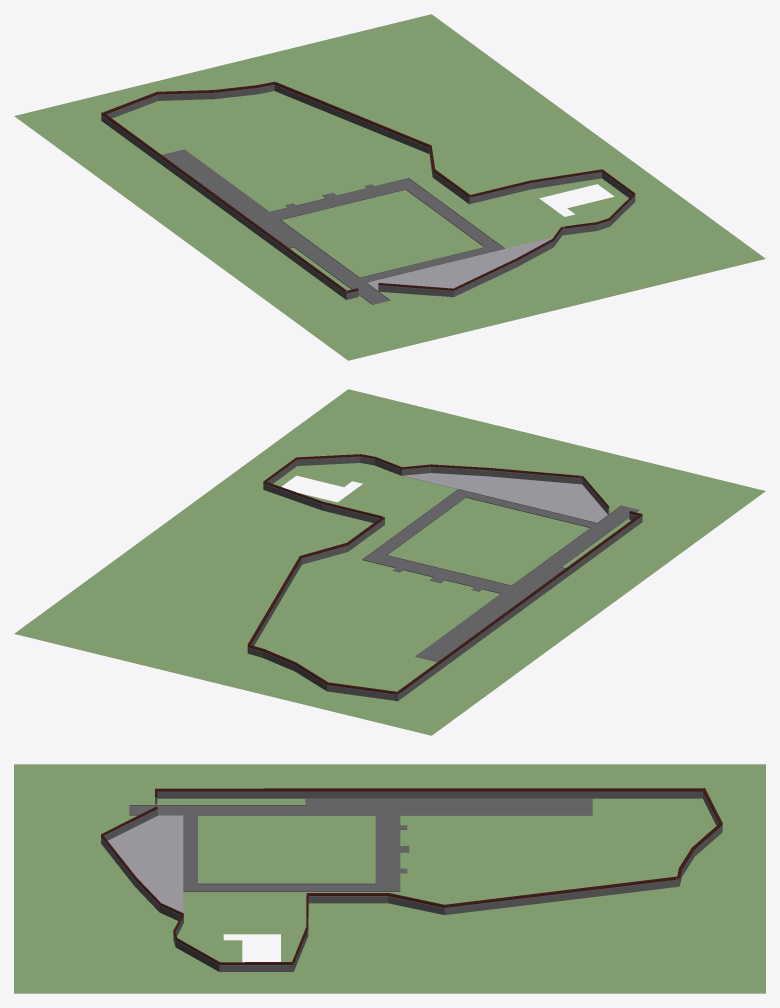
The model's file is Tanah+Tembok.fbx.
3 views of the same model, one above another, from view 1: azimuth 30°, elevation 25°; view 2: azimuth 150°, elevation 25°; view 3: azimuth 270°, elevation 25° (orthographic). The views are drawn at different scales.
Visible parts, largest first — view 1: Tanah, Jalur siswa, Tembok, Tanah segitiga, Garis 1, Garis 2, Garis 3; view 2: Tanah, Jalur siswa, Tembok, Tanah segitiga, Garis 1, Garis 3, Garis 2; view 3: Tanah, Jalur siswa, Tembok, Tanah segitiga, Garis 1, Garis 3, Garis 2.
Boxes of the visible parts, bbox=[...] form: Tanah: bbox=[14, 14, 765, 360]; Jalur siswa: bbox=[162, 149, 504, 304]; Tembok: bbox=[101, 83, 635, 299]; Tanah segitiga: bbox=[367, 237, 553, 297]; Garis 1: bbox=[102, 81, 635, 292]; Garis 2: bbox=[101, 83, 635, 292]; Garis 3: bbox=[102, 84, 635, 293]; Tanah: bbox=[14, 389, 765, 735]; Jalur siswa: bbox=[362, 489, 638, 661]; Tembok: bbox=[247, 456, 642, 701]; Tanah segitiga: bbox=[403, 473, 607, 522]; Garis 1: bbox=[247, 454, 642, 693]; Garis 3: bbox=[248, 456, 642, 694]; Garis 2: bbox=[248, 455, 641, 693]; Tanah: bbox=[14, 764, 765, 993]; Jalur siswa: bbox=[129, 798, 592, 891]; Tembok: bbox=[101, 791, 722, 971]; Tanah segitiga: bbox=[100, 815, 183, 912]; Garis 1: bbox=[101, 788, 722, 963]; Garis 3: bbox=[101, 790, 722, 964]; Garis 2: bbox=[102, 790, 722, 963].
Size of the model in its own units: 20225 by 405 by 28041.
